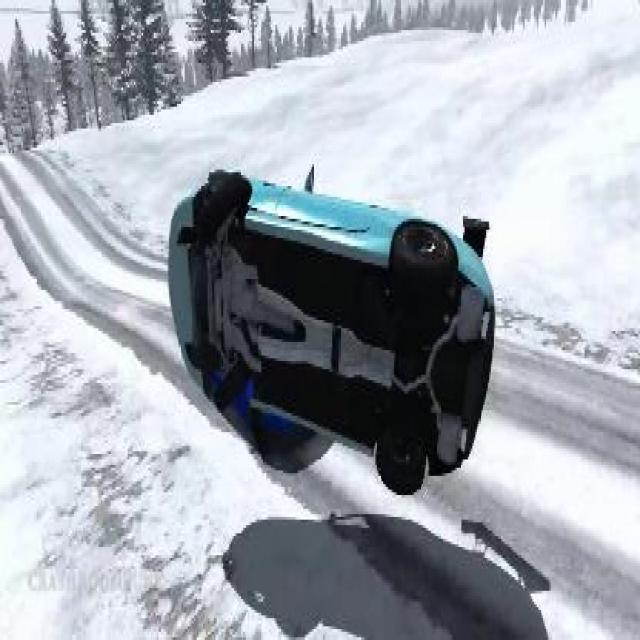accident: (163, 148, 499, 495)
